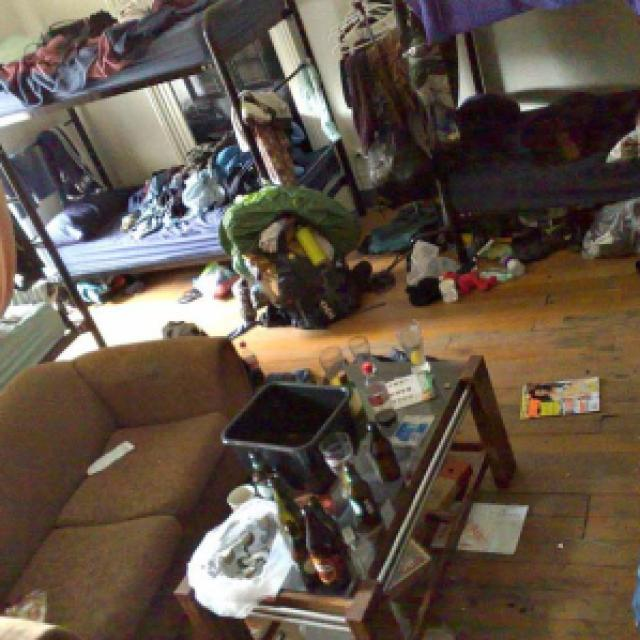scattered-items: (0, 12, 408, 312), (232, 330, 506, 628), (422, 164, 640, 331)
